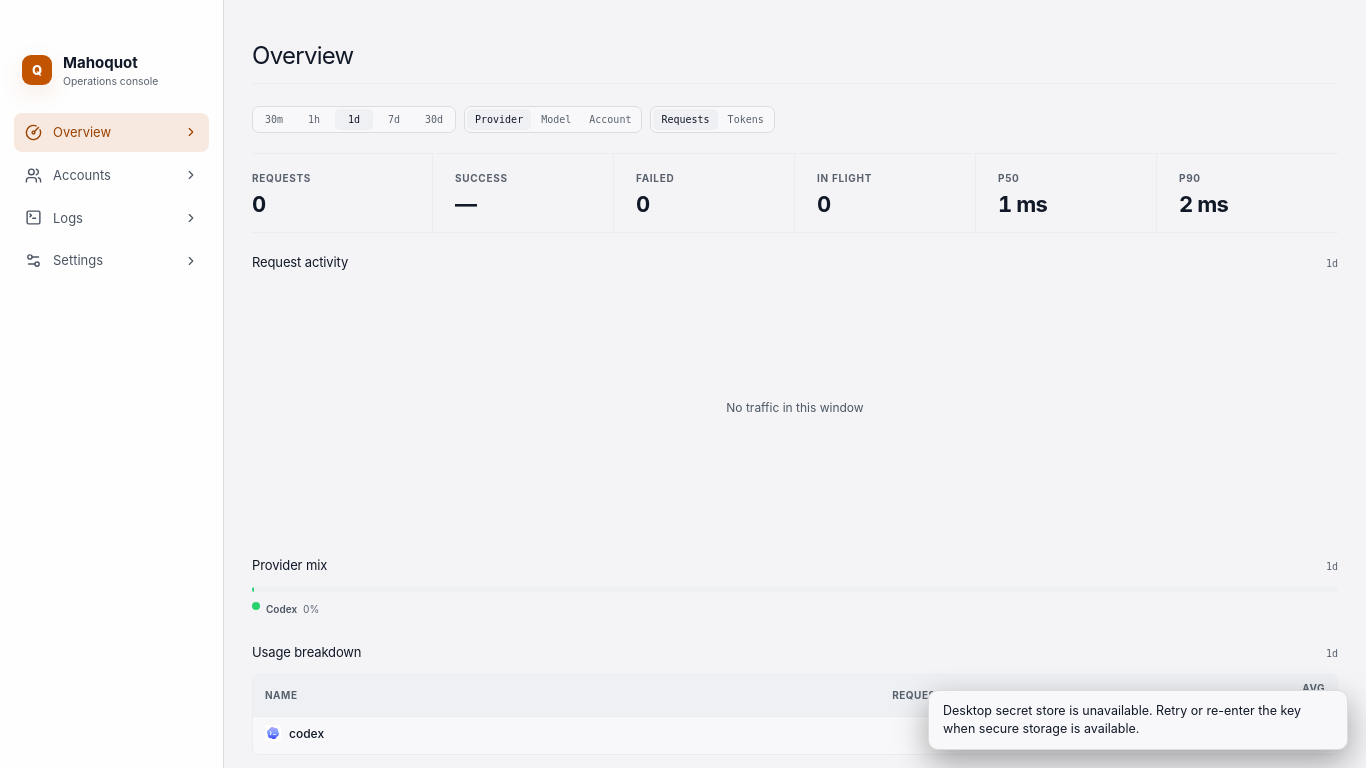
Test: codex credit policy in the operations console › shows a measured zero as zero credits and a no-credits answer when the flag says none
The width and height of the screenshot is (1366, 768).
Click the button "Accounts" at (112, 175), box [14, 156, 209, 194]
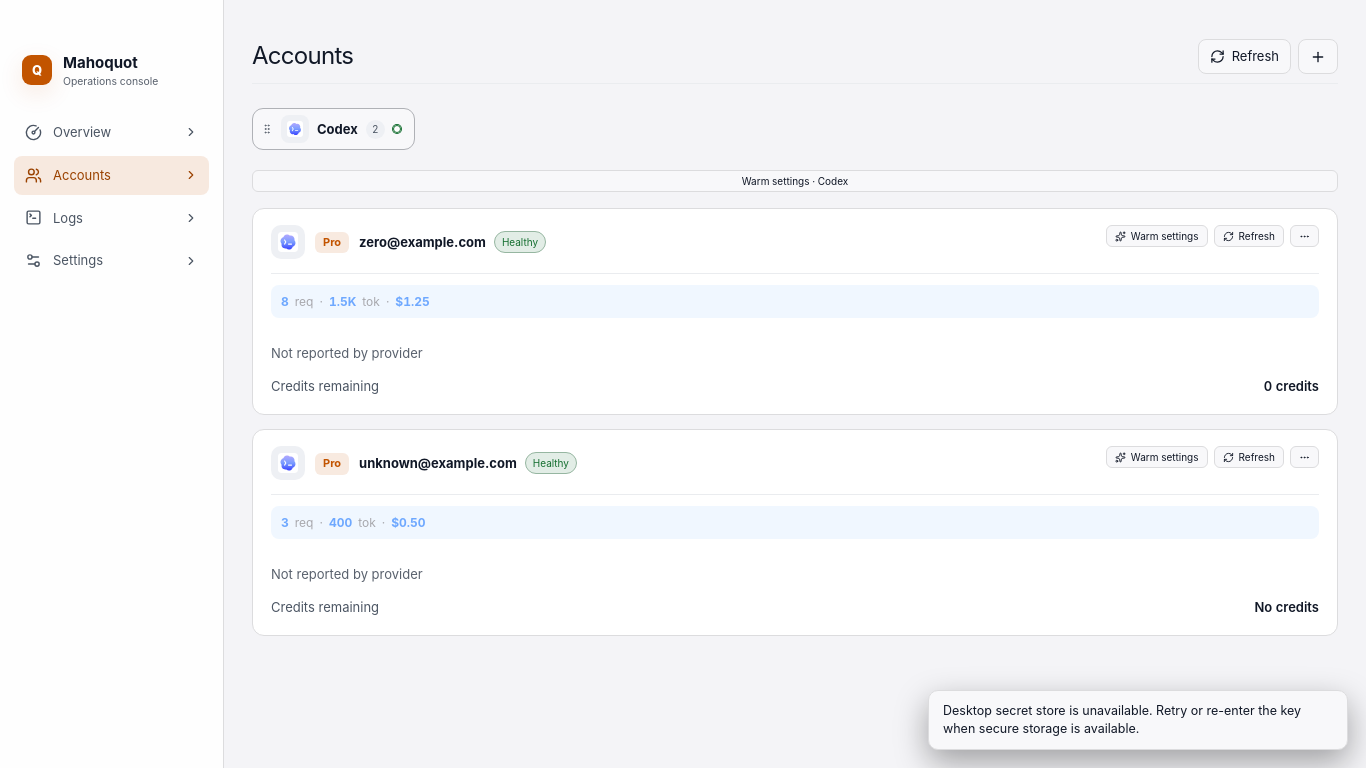
Now the number of elements with test id "account-credit-value" is 2, box [1264, 377, 1319, 396]; [1254, 598, 1319, 617]
Now the text with test id "account-credit-value" reads "0 credits", box [1264, 378, 1319, 394]
Now the text with test id "account-credit-value" reads "No credits", box [1254, 599, 1319, 615]
